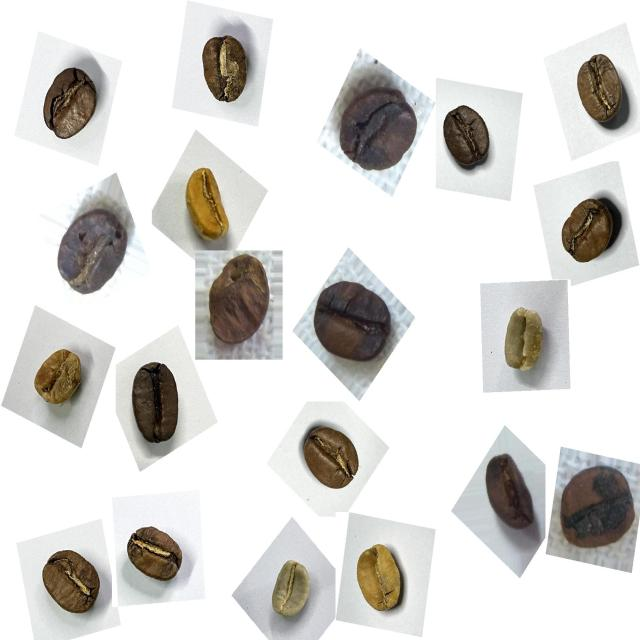bad: (327, 72, 423, 185), (305, 269, 401, 376), (46, 195, 135, 308), (550, 454, 638, 564), (197, 248, 278, 359), (474, 444, 544, 541)
dark: (119, 354, 193, 457), (33, 58, 110, 156), (433, 91, 503, 180)
green: (490, 294, 558, 386), (262, 553, 322, 635)
light: (344, 533, 416, 626), (173, 158, 241, 252), (26, 339, 94, 420)
medium: (34, 540, 112, 630), (550, 186, 628, 276), (292, 416, 369, 503), (565, 45, 637, 138), (189, 25, 261, 116), (118, 514, 192, 596)
